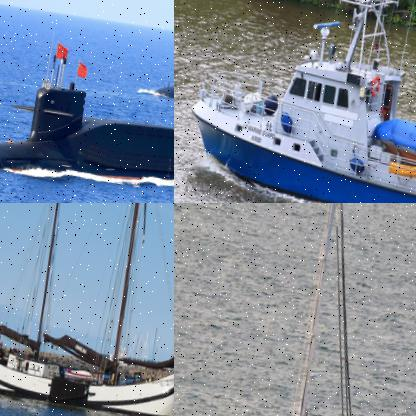Patrol Boat: (176, 0, 415, 202)
Sails Boat: (174, 203, 415, 415), (0, 203, 173, 415)
Submarine: (0, 41, 173, 202), (138, 35, 173, 116)
